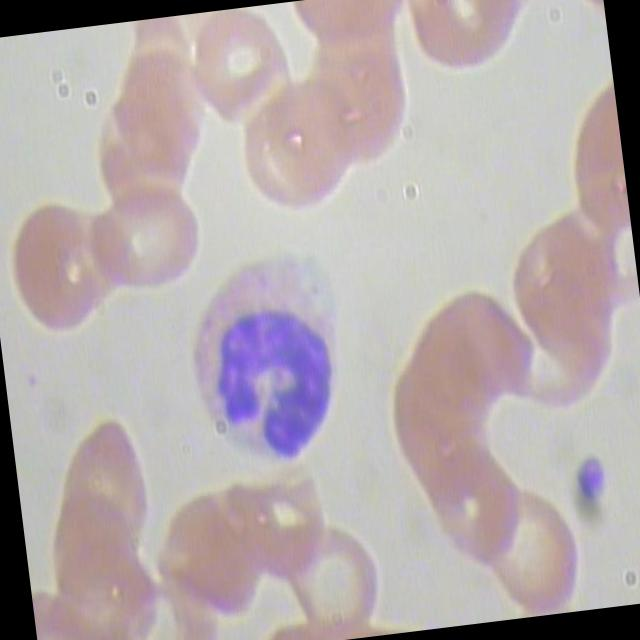Platelets: (563, 451, 607, 503)
RBC: (0, 192, 108, 347), (474, 485, 592, 622), (179, 3, 298, 136), (91, 180, 205, 305), (276, 522, 390, 640)
WBC: (160, 222, 367, 490)
